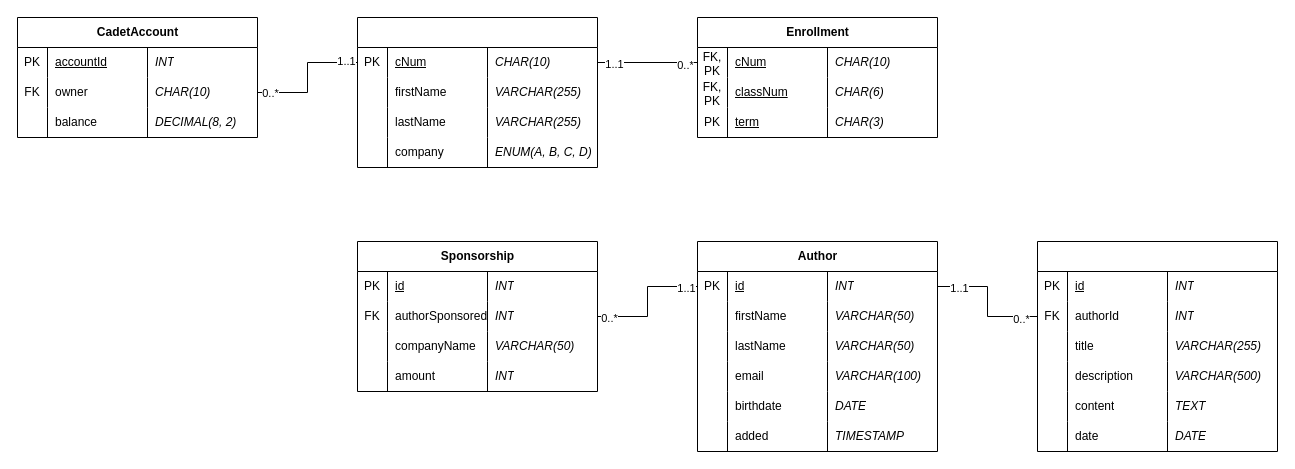
Image size: 1295x469. Some labels were removed from this diagram. Here are the shapes that lost their labels. From the top down, the box of each, then its label:
(356, 16, 598, 168): Cadet
(1036, 240, 1278, 452): Post
